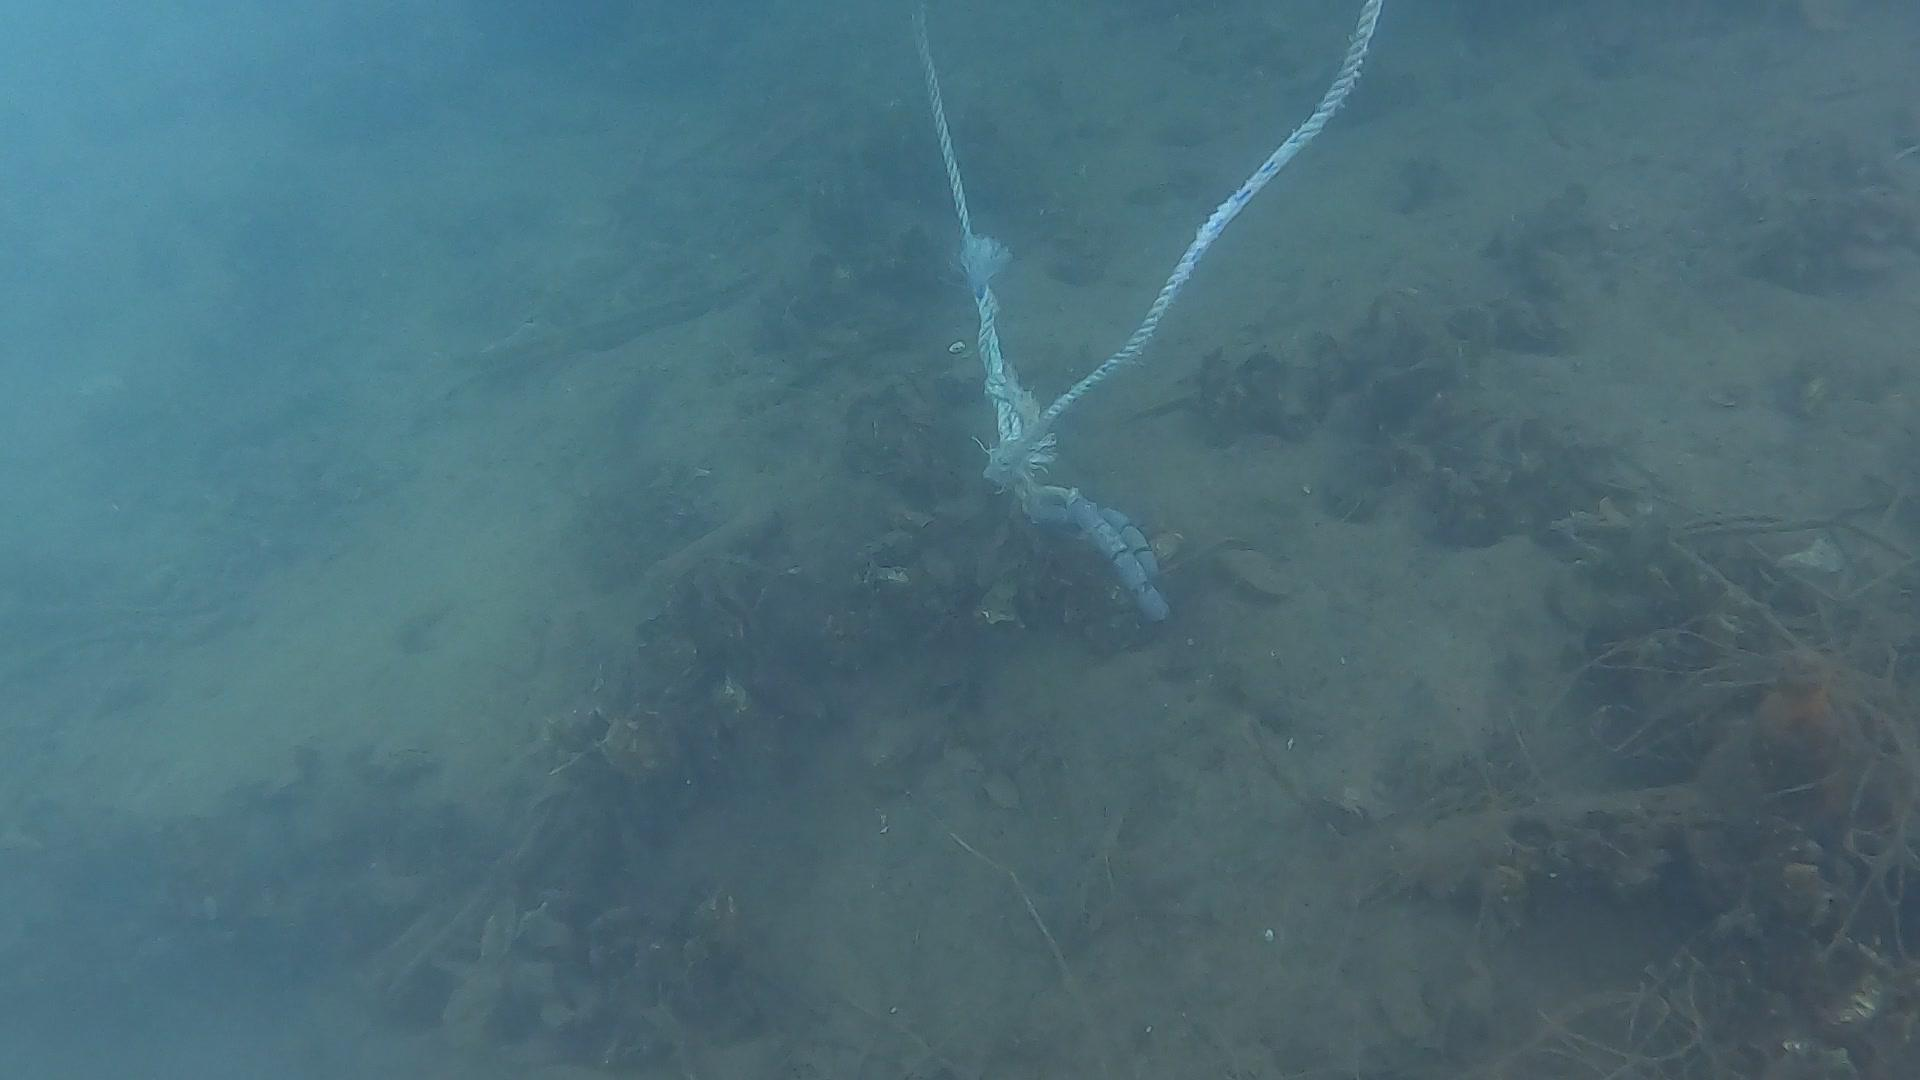bundle of ropes: (910, 0, 1386, 447)
